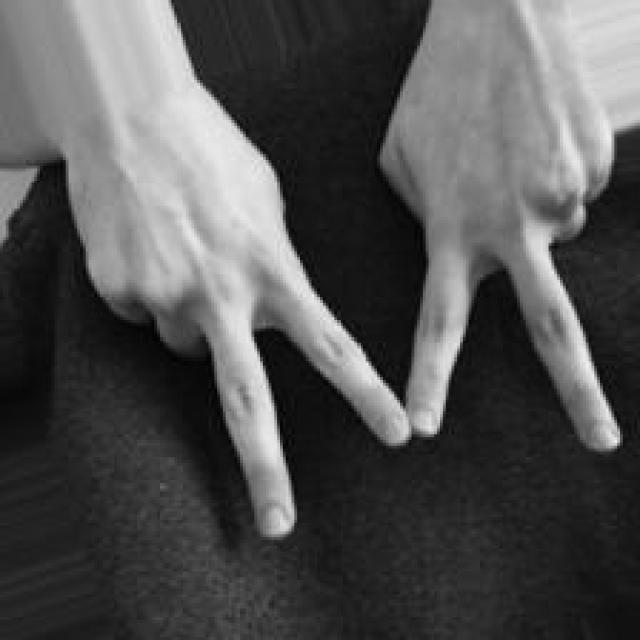M: (69, 125, 628, 550)
